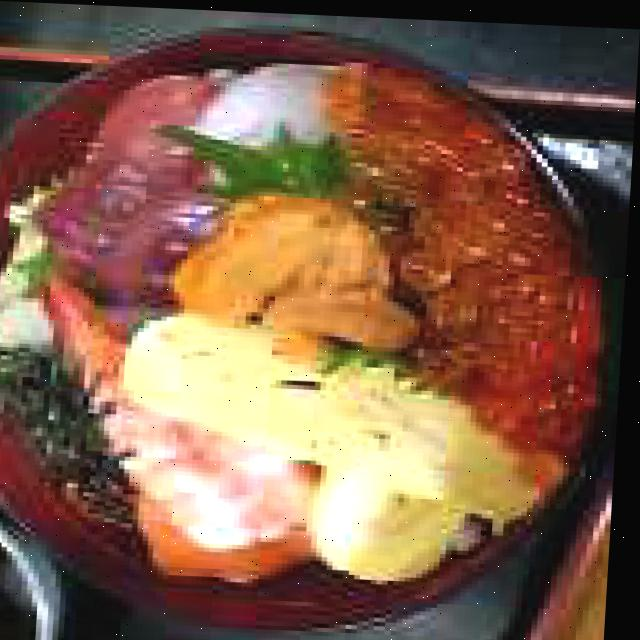刺身生食: (0, 12, 639, 640)
